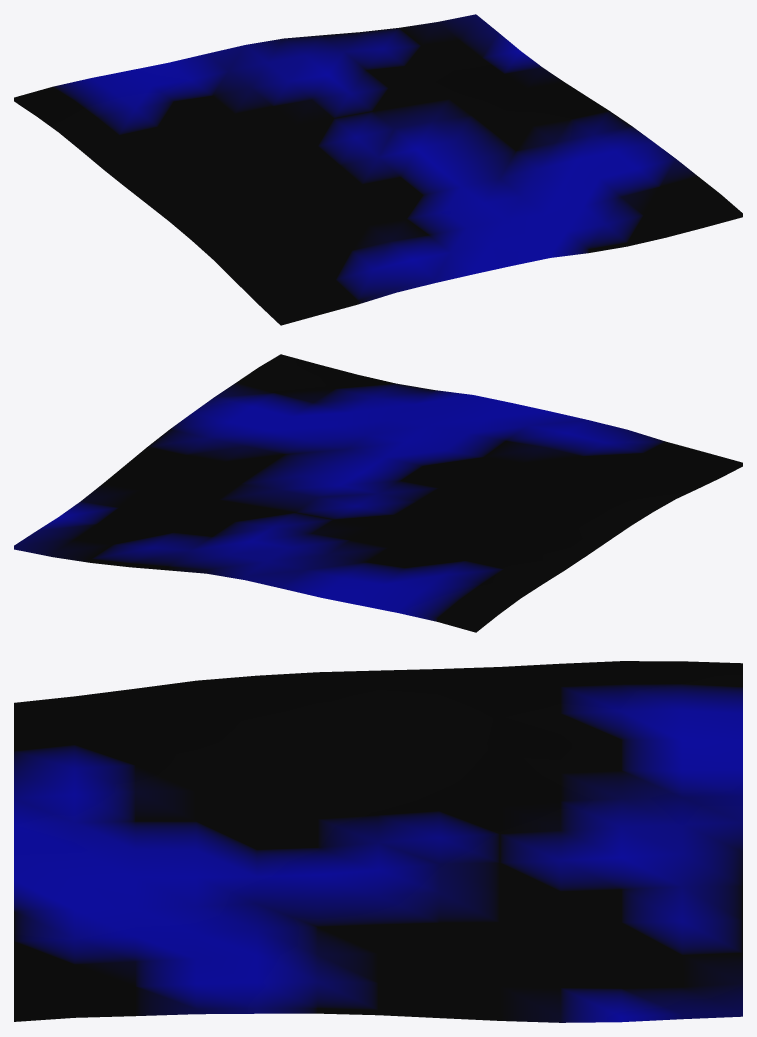
The model's file is coast_4_1.glb.
3 views of the same model, one above another, from view 1: azimuth 30°, elevation 25°; view 2: azimuth 150°, elevation 25°; view 3: azimuth 270°, elevation 25° (orthographic). The views are drawn at different scales.
Parts seen in each view (by area): view 1: terrain; view 2: terrain; view 3: terrain.
Boxes of the visible parts, box(x1,y1,x2,y2) form: terrain: box(14, 14, 742, 325); terrain: box(14, 354, 742, 632); terrain: box(14, 661, 742, 1022).
Bounding box in the file's own units: 192 × 16.83 × 192.
